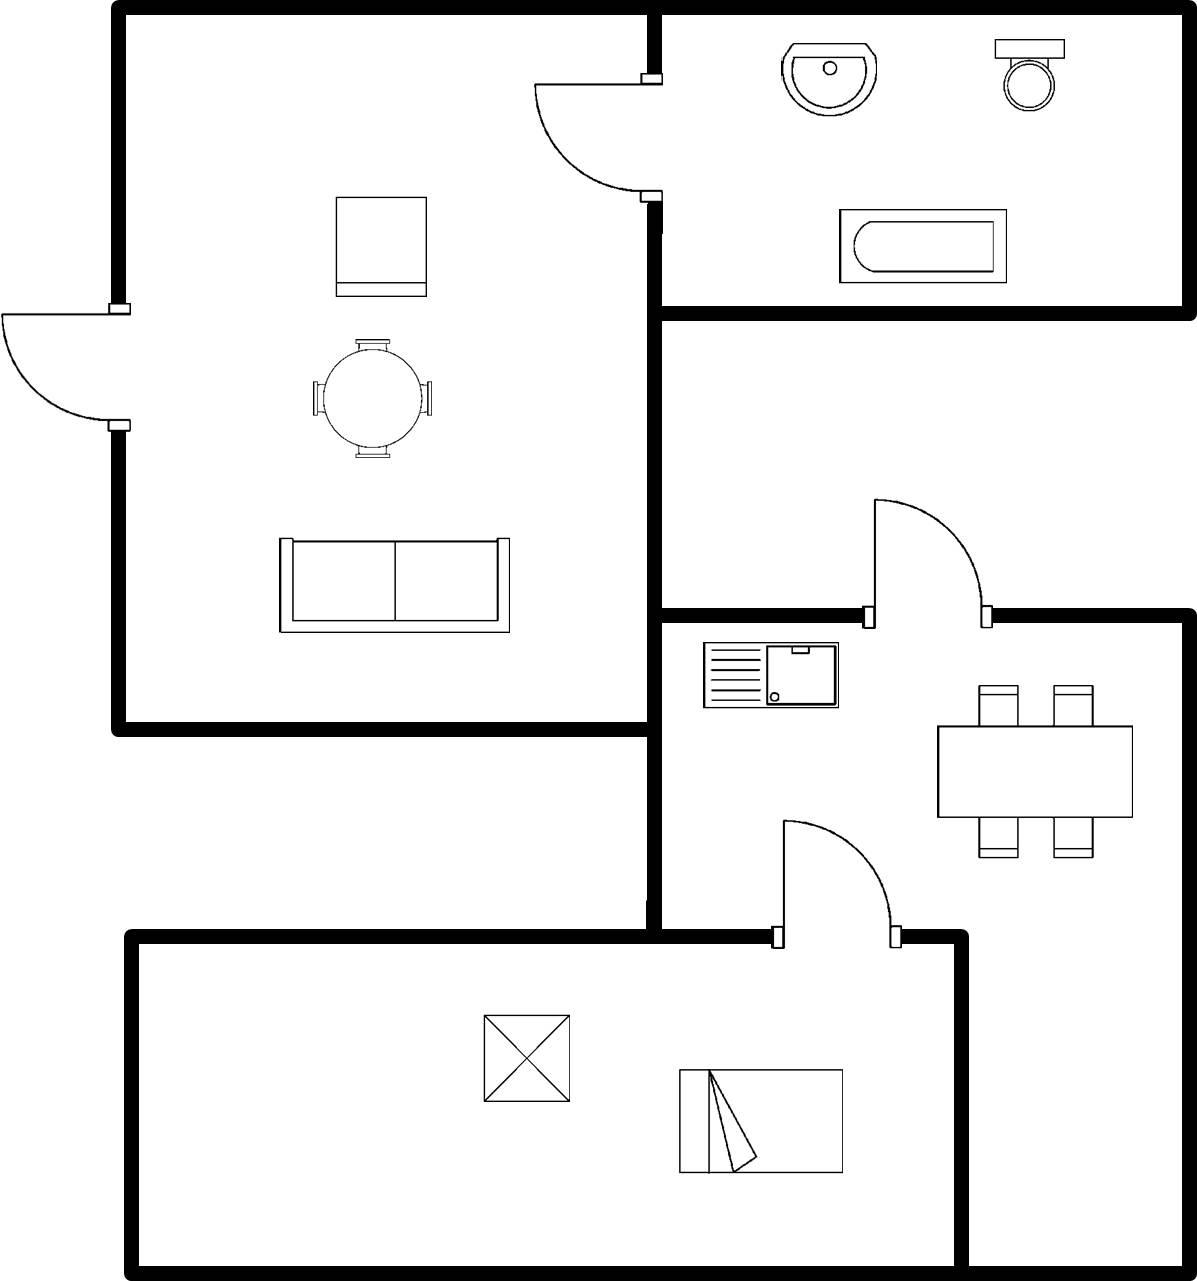bed: (668, 1062, 853, 1184)
dining_table: (922, 669, 1150, 867)
round_table: (301, 332, 439, 470)
sink: (688, 633, 848, 718)
sofa: (268, 527, 519, 639)
toilet: (984, 27, 1075, 115)
tub: (827, 199, 1017, 292)
